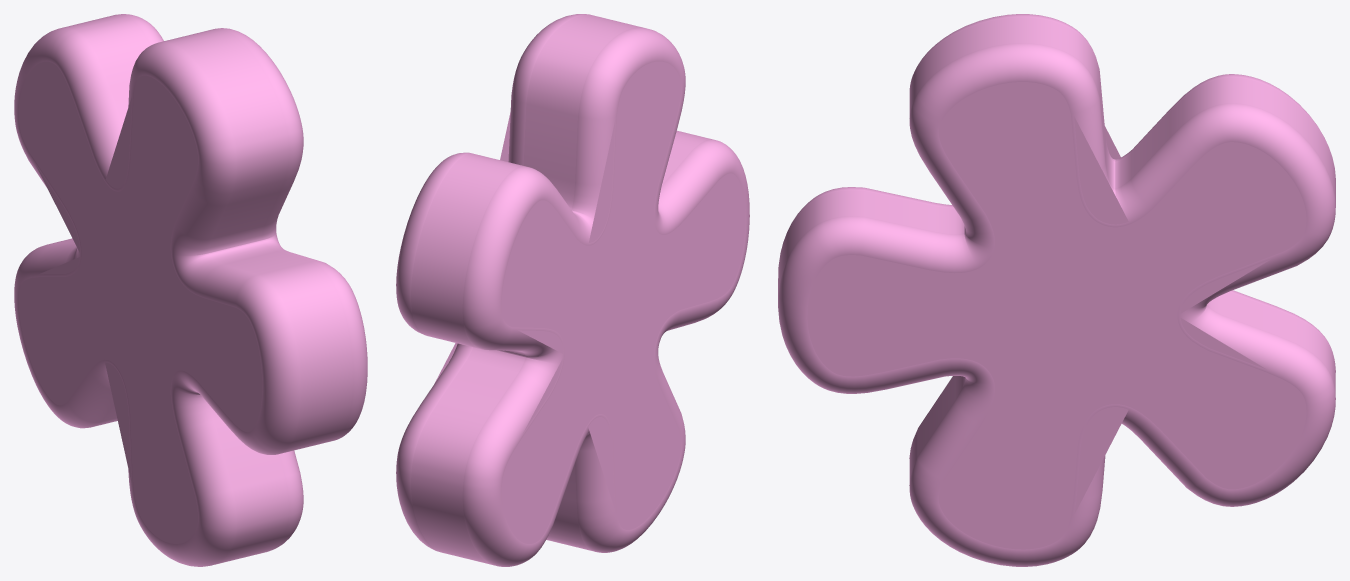
File: pink-flower.fbx
3 renders of one model, left to right at view 1: azimuth 30°, elevation 25°; view 2: azimuth 150°, elevation 25°; view 3: azimuth 270°, elevation 25°, orthographic. The views are drawn at different scales.
Visible parts, largest first — view 1: Extrude; view 2: Extrude; view 3: Extrude.
Boxes of the visible parts, x1,y1,x2,y2 form: Extrude: (14,14,367,566); Extrude: (396,14,749,566); Extrude: (778,14,1335,566).
Size of the model in its own units: 17.61 by 84.56 by 82.1.
